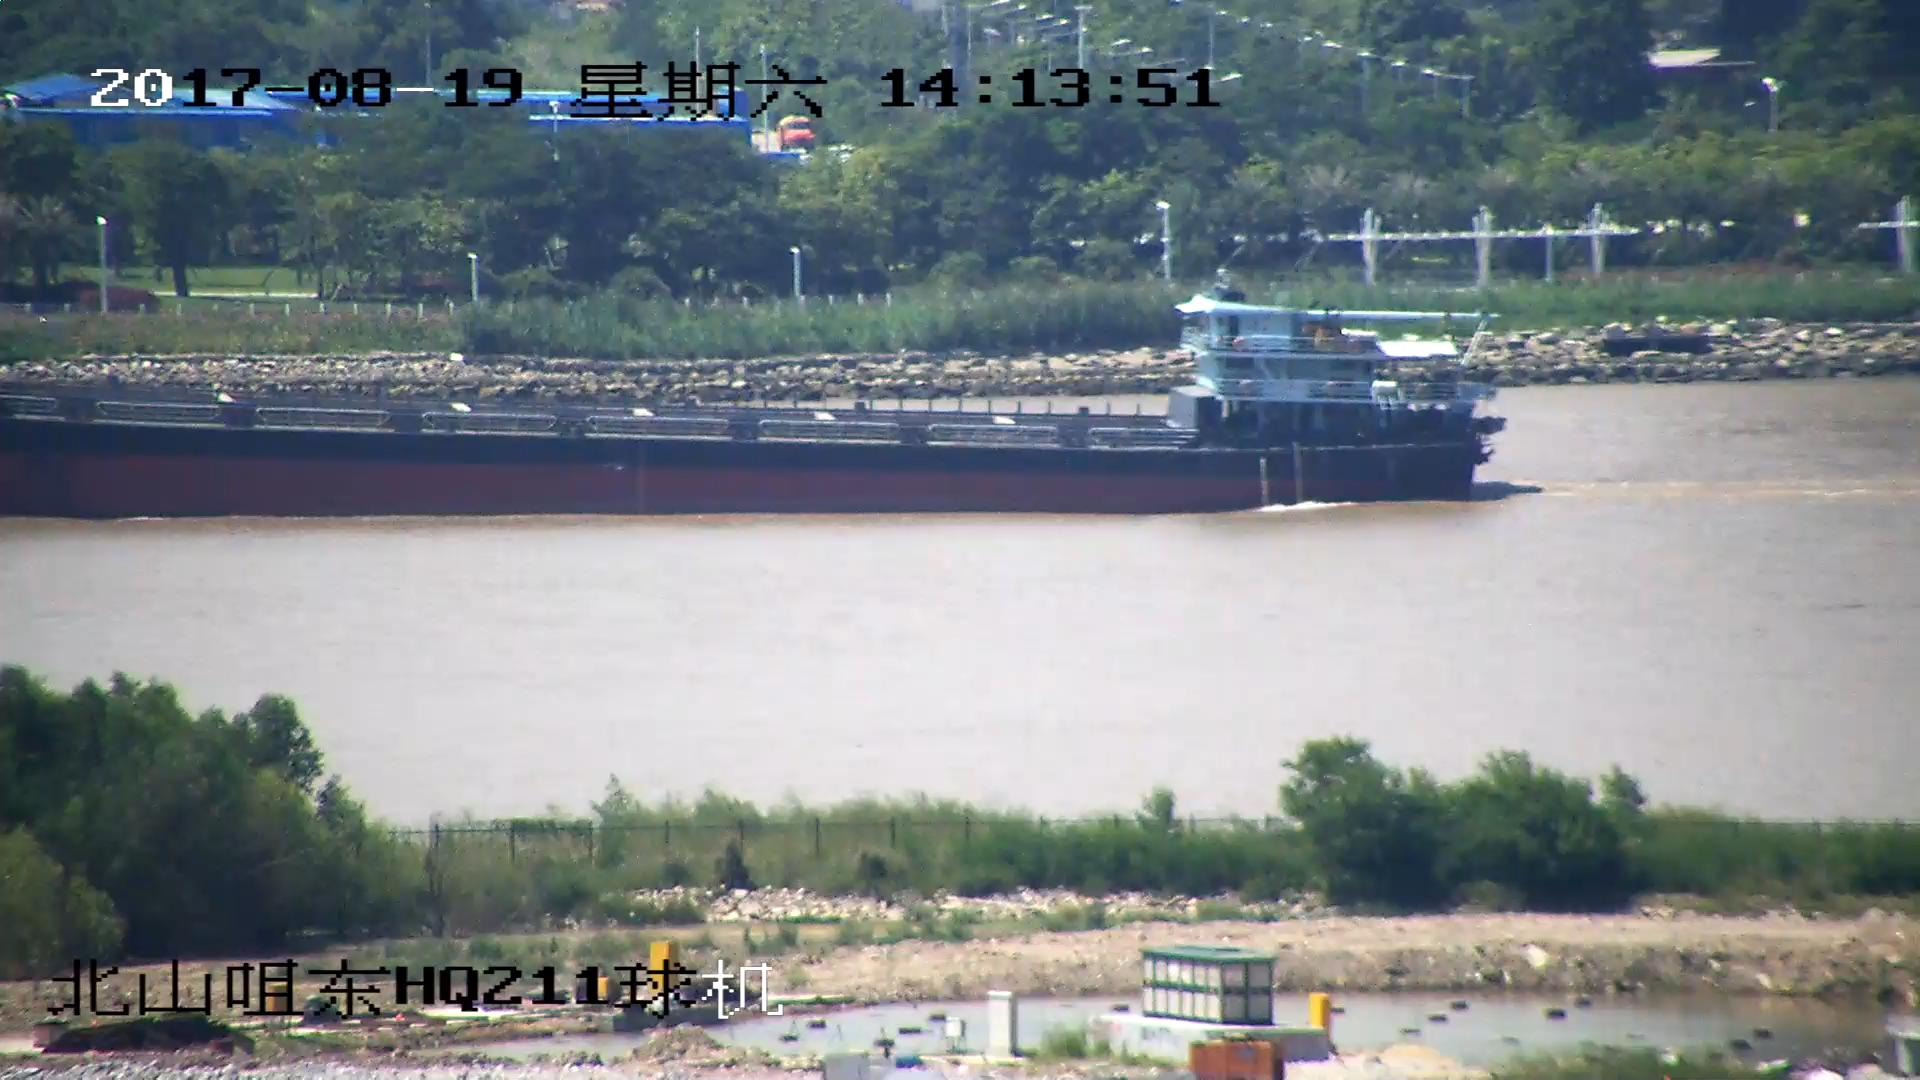bulk cargo carrier: (1, 282, 1496, 521)
